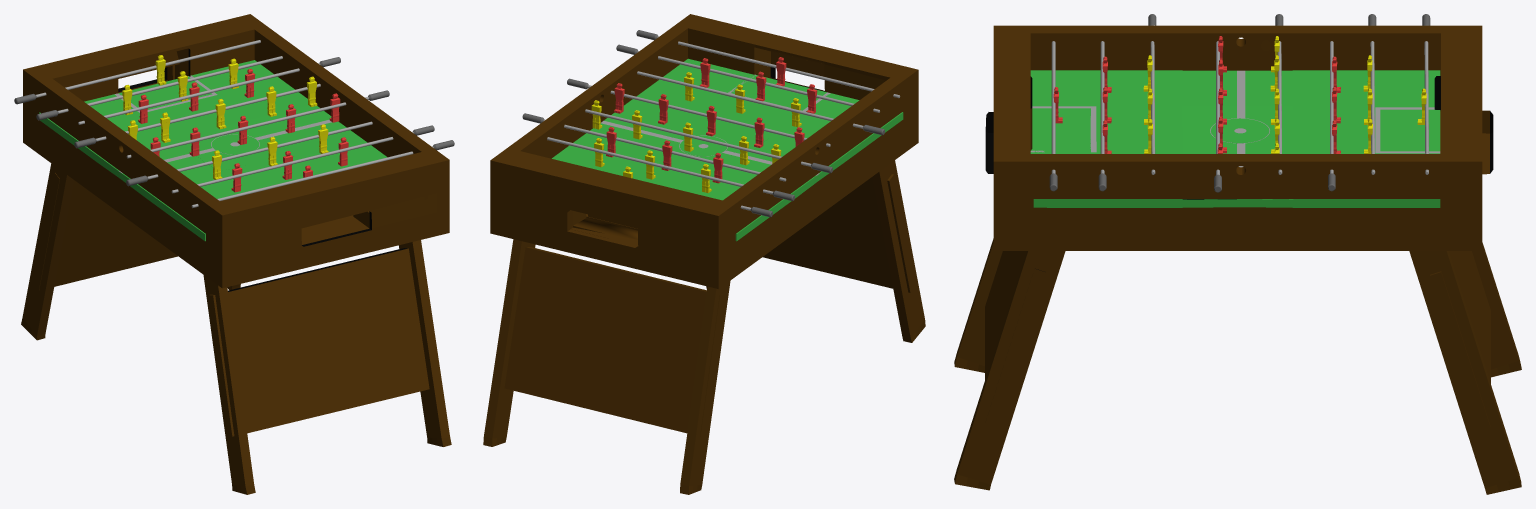
Rendered from table_football.glb.
The picture shows the model from 3 angles, left to right: view 1: azimuth 30°, elevation 25°; view 2: azimuth 150°, elevation 25°; view 3: azimuth 270°, elevation 25°; orthographic projection. The views are drawn at different scales.
Visible parts, largest first — view 1: Cube, Plane.002, Plane, Plane.001, Cylinder.002, Cylinder.001, Cylinder.003, Cylinder.005, Cylinder, Cylinder.004, Cylinder.007, Cylinder.006; view 2: Cube, Plane.001, Plane, Plane.002, Cylinder.004, Cylinder.006, Cylinder.007, Cylinder, Cylinder.003, Cylinder.001, Cylinder.002; view 3: Cube, Plane, Plane.001, Plane.002, Cylinder, Cylinder.001.
Part boxes in pixels (box(x1,y1,x2,y2)): Cube: box(23, 14, 449, 288); Plane.002: box(203, 240, 451, 494); Plane: box(39, 60, 387, 241); Plane.001: box(21, 163, 240, 340); Cylinder.002: box(126, 90, 389, 158); Cylinder.001: box(171, 125, 434, 193); Cylinder.003: box(78, 57, 340, 124); Cylinder.005: box(14, 40, 260, 104); Cylinder: box(191, 140, 454, 207); Cylinder.004: box(36, 56, 282, 120); Cylinder.007: box(126, 121, 372, 186); Cylinder.006: box(74, 83, 320, 148); Cube: box(490, 14, 918, 288); Plane.001: box(483, 239, 730, 494); Plane: box(552, 58, 903, 241); Plane.002: box(706, 160, 925, 342); Cylinder.004: box(547, 137, 794, 201); Cylinder.006: box(585, 109, 832, 173); Cylinder.007: box(637, 71, 884, 135); Cylinder: box(636, 30, 900, 98); Cylinder.003: box(522, 113, 786, 181); Cylinder.001: box(616, 44, 879, 112); Cylinder.002: box(567, 78, 830, 146); Cube: box(985, 25, 1493, 250); Plane: box(1030, 70, 1440, 207); Plane.001: box(1409, 242, 1521, 494); Plane.002: box(954, 238, 1065, 490); Cylinder: box(1049, 41, 1057, 191); Cylinder.001: box(1098, 41, 1106, 191).
Bounding box in the file's own units: 13.54 × 12.56 × 18.88.
